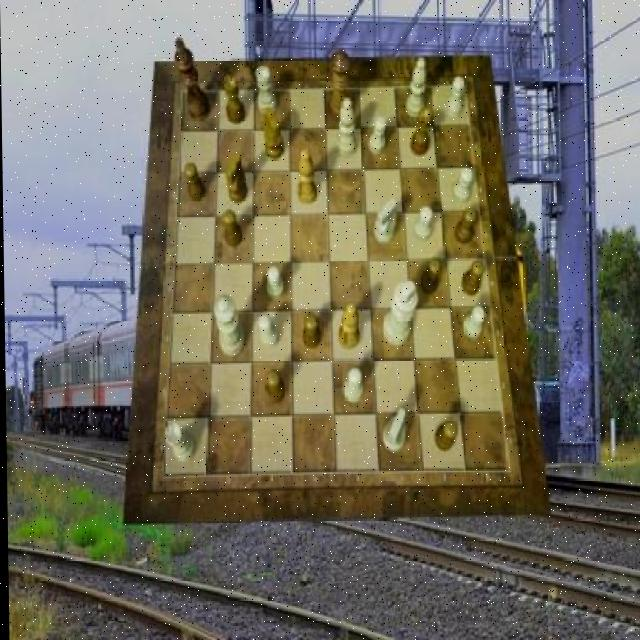bishop: (296, 148, 316, 204), (337, 303, 358, 351)
black-bishop: (173, 39, 210, 122)
black-king: (224, 153, 247, 204), (263, 108, 283, 160)
black-knight: (461, 260, 485, 296), (452, 208, 475, 244), (184, 163, 205, 202), (432, 420, 456, 452), (221, 209, 241, 247), (419, 258, 439, 294), (264, 369, 283, 403), (301, 314, 319, 348)
black-pawn: (326, 50, 351, 126)
black-queen: (410, 108, 433, 157), (223, 76, 244, 124)
black-rook: (335, 98, 356, 158), (404, 58, 424, 118)
white-bishop: (381, 280, 418, 346)
white-king: (372, 197, 397, 243), (380, 408, 405, 452)
white-knight: (461, 304, 484, 338), (445, 77, 464, 118), (450, 168, 472, 202), (411, 206, 432, 241), (256, 315, 277, 348), (369, 117, 387, 155), (342, 368, 362, 402), (265, 266, 283, 300)
white-pawn: (211, 294, 244, 356)
white-queen: (164, 423, 194, 463), (255, 66, 277, 116)
